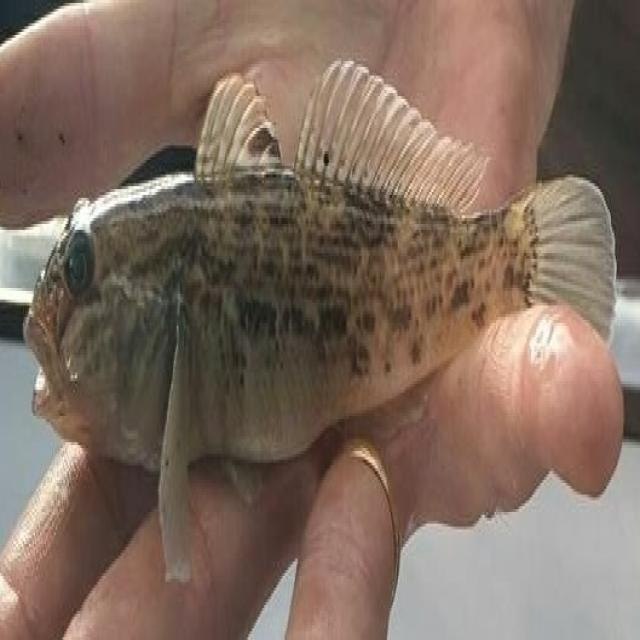Goby: (23, 25, 619, 562)
